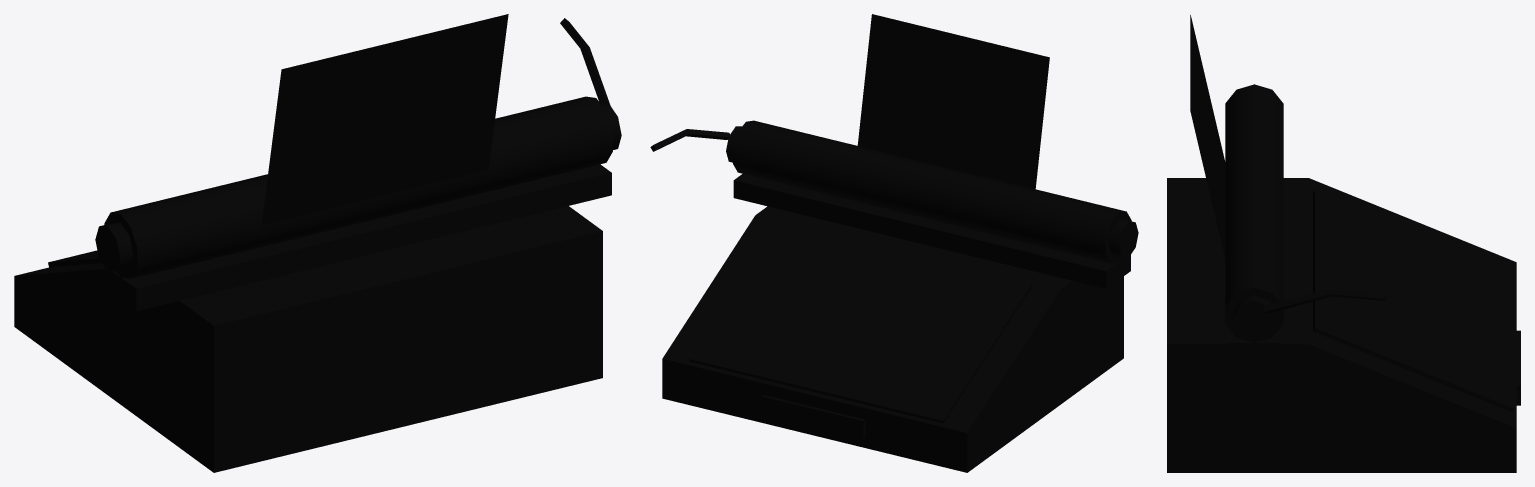
The model's file is SM_typewriter.fbx.
3 views of the same model, side by side, from view 1: azimuth 30°, elevation 25°; view 2: azimuth 150°, elevation 25°; view 3: azimuth 270°, elevation 25° (orthographic). The views are drawn at different scales.
Visible parts, largest first — view 1: typewriter, typewriter_carriage; view 2: typewriter, typewriter_carriage; view 3: typewriter, typewriter_carriage.
Part boxes in pixels (<box>): typewriter: <box>14,164,611,472</box>; typewriter_carriage: <box>95,14,621,278</box>; typewriter: <box>662,174,1130,472</box>; typewriter_carriage: <box>650,14,1138,263</box>; typewriter: <box>1167,178,1520,472</box>; typewriter_carriage: <box>1190,15,1386,342</box>.
Size of the model in its own units: 0.4959 by 0.3307 by 0.324.
